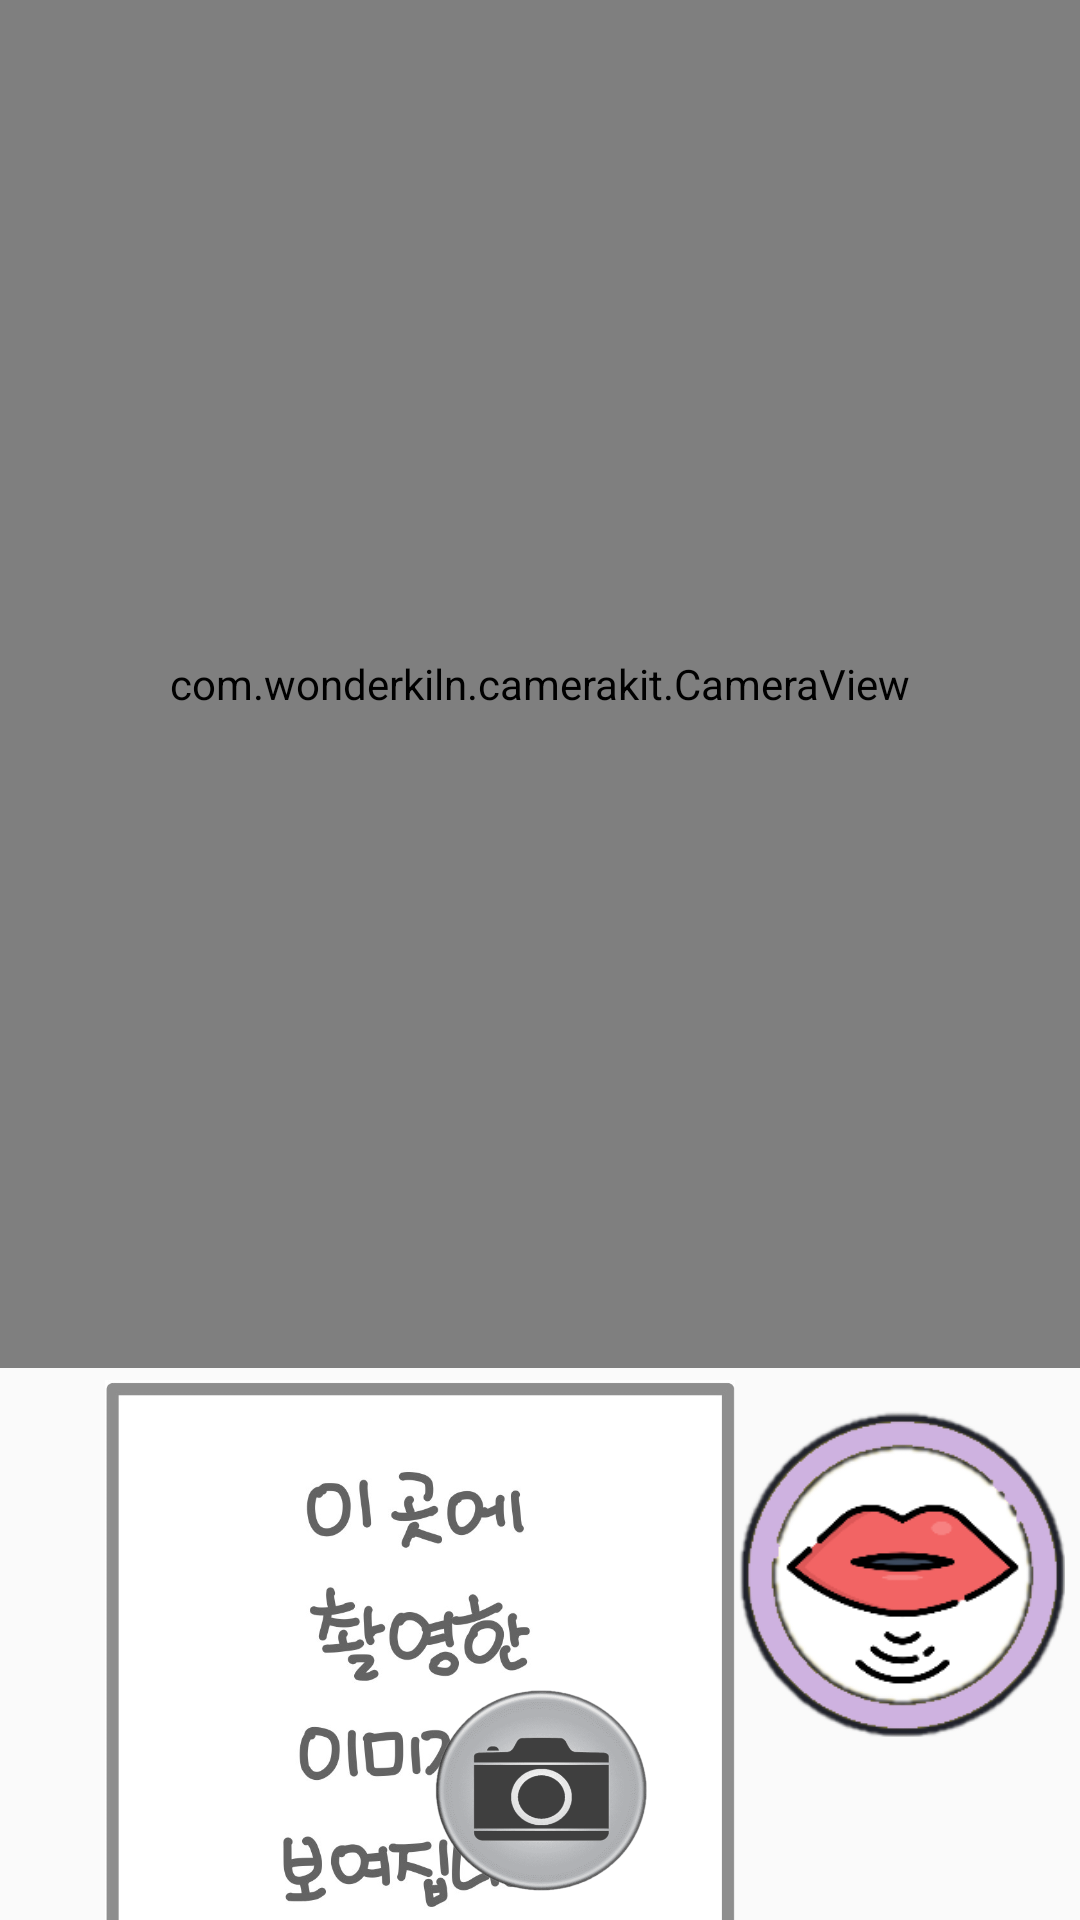

Named icons in this screenshot (1080*1920) and their centers, point (x, y):
camera: point (534, 1798)
mouth: point (902, 1575)
